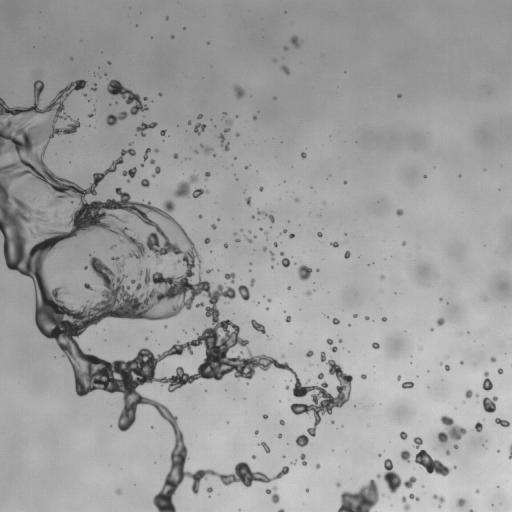droplet: (337, 479, 384, 511), (377, 459, 415, 493), (437, 415, 466, 442), (174, 175, 209, 197), (136, 122, 156, 136), (482, 396, 497, 412), (265, 486, 279, 503), (298, 264, 311, 280), (432, 494, 445, 507), (296, 434, 309, 446), (122, 167, 136, 178), (234, 85, 244, 98), (194, 123, 205, 134), (224, 272, 235, 283), (400, 450, 410, 462), (290, 35, 299, 47), (413, 437, 422, 448), (200, 145, 212, 153), (402, 381, 414, 388), (152, 166, 160, 176), (141, 178, 149, 187), (108, 242, 116, 251), (282, 258, 290, 267), (436, 317, 444, 326), (474, 422, 482, 431), (456, 498, 465, 506), (281, 66, 289, 74), (84, 283, 93, 290), (465, 389, 472, 398), (400, 431, 407, 439), (372, 342, 379, 349), (306, 350, 313, 357), (396, 209, 403, 215), (344, 251, 350, 258), (285, 315, 291, 322), (332, 318, 339, 324), (331, 242, 339, 247), (196, 302, 204, 307), (204, 237, 210, 243), (317, 373, 323, 379), (245, 237, 252, 242), (246, 197, 250, 205), (301, 152, 306, 158), (205, 172, 210, 178), (36, 210, 42, 215), (100, 236, 106, 241), (306, 290, 312, 295), (250, 278, 254, 285), (197, 114, 202, 119), (226, 119, 231, 124), (160, 130, 165, 135), (173, 153, 178, 158), (211, 224, 216, 229), (317, 232, 322, 237), (490, 357, 495, 362), (444, 365, 449, 370), (361, 374, 366, 379), (445, 450, 450, 455), (207, 487, 212, 492), (116, 489, 121, 494), (498, 368, 502, 374), (262, 414, 268, 418), (280, 419, 284, 425), (88, 113, 93, 117), (224, 128, 229, 132), (150, 159, 154, 164), (289, 234, 294, 238), (206, 269, 211, 273), (131, 279, 136, 283), (381, 317, 386, 321), (278, 433, 282, 438), (336, 482, 340, 487), (91, 86, 95, 90), (294, 198, 298, 202), (198, 214, 202, 218), (285, 385, 289, 389), (454, 444, 458, 448), (316, 464, 320, 468), (397, 375, 400, 380), (259, 187, 263, 190), (235, 239, 239, 242), (280, 252, 284, 255), (380, 275, 383, 279), (255, 430, 258, 434), (475, 490, 479, 493), (188, 121, 191, 124), (129, 142, 132, 145), (58, 223, 61, 226), (283, 229, 286, 232), (274, 243, 277, 246), (224, 244, 227, 247), (263, 247, 266, 250), (84, 266, 87, 269), (267, 299, 270, 302), (365, 316, 368, 319), (339, 339, 342, 342), (252, 455, 255, 458), (292, 461, 295, 464), (265, 231, 267, 235), (469, 509, 473, 511), (284, 47, 287, 49), (108, 61, 110, 64), (398, 94, 400, 97), (144, 97, 146, 100), (223, 113, 226, 115), (236, 133, 238, 136), (195, 150, 197, 153), (245, 166, 248, 168), (127, 179, 129, 182), (37, 218, 40, 220), (402, 242, 405, 244), (354, 314, 356, 317), (460, 361, 463, 363), (378, 454, 381, 456), (453, 466, 456, 468), (166, 17, 168, 19), (159, 93, 161, 95), (253, 116, 255, 118), (155, 149, 157, 151), (141, 164, 143, 166), (424, 175, 426, 177), (344, 181, 346, 183), (54, 214, 56, 216), (254, 235, 256, 237), (271, 266, 273, 268), (439, 298, 441, 300), (266, 307, 268, 309), (267, 336, 269, 338), (246, 382, 248, 384), (331, 421, 333, 423), (497, 450, 499, 452), (306, 489, 308, 491)
ligament: (0, 80, 352, 510), (107, 80, 148, 114), (415, 449, 450, 476), (106, 111, 127, 125), (257, 210, 274, 222), (482, 371, 492, 390), (251, 320, 265, 333), (219, 133, 229, 151), (326, 339, 337, 352), (401, 496, 410, 511), (495, 418, 509, 427), (259, 442, 270, 453), (409, 493, 419, 501), (143, 148, 150, 159), (300, 454, 307, 465), (508, 444, 511, 459), (270, 252, 274, 260), (278, 509, 284, 511)
